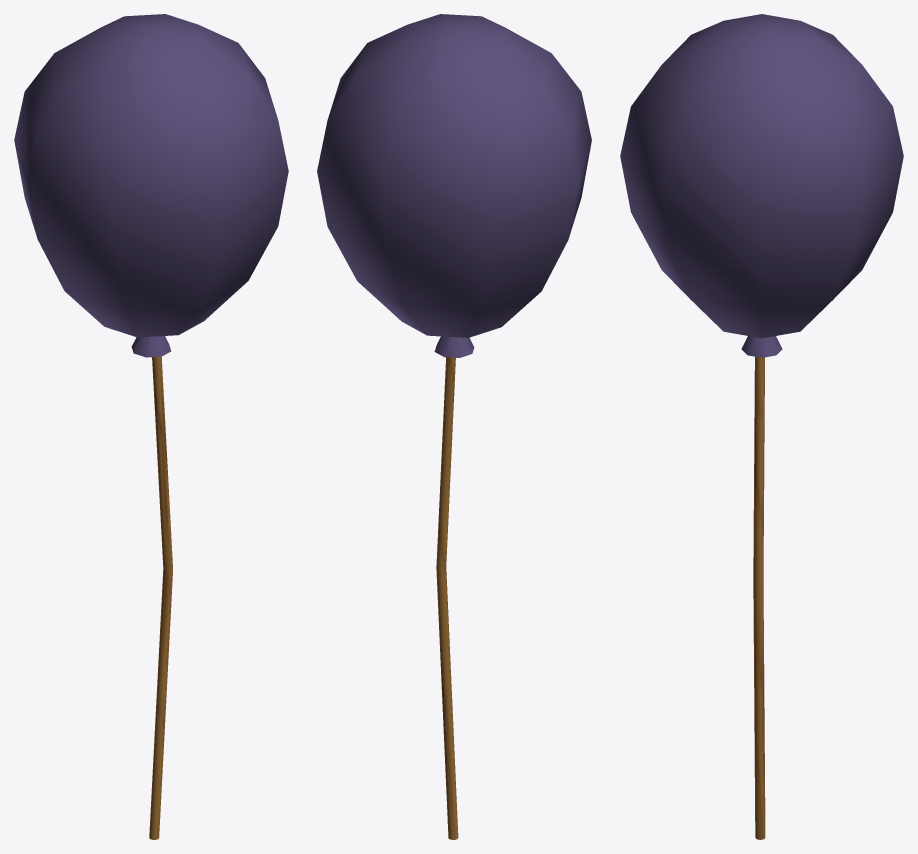
Rendered from Balloon2.fbx.
3 views of the same model, side by side, from view 1: azimuth 30°, elevation 25°; view 2: azimuth 150°, elevation 25°; view 3: azimuth 270°, elevation 25° (orthographic).
Visible parts, largest first — view 1: polySurface226; view 2: polySurface226; view 3: polySurface226.
Boxes of the visible parts, bbox=[...] form: polySurface226: bbox=[14, 14, 288, 839]; polySurface226: bbox=[317, 14, 591, 839]; polySurface226: bbox=[620, 14, 903, 839].
Bounding box in the file's own units: 0.4182 × 1.32 × 0.4182.
